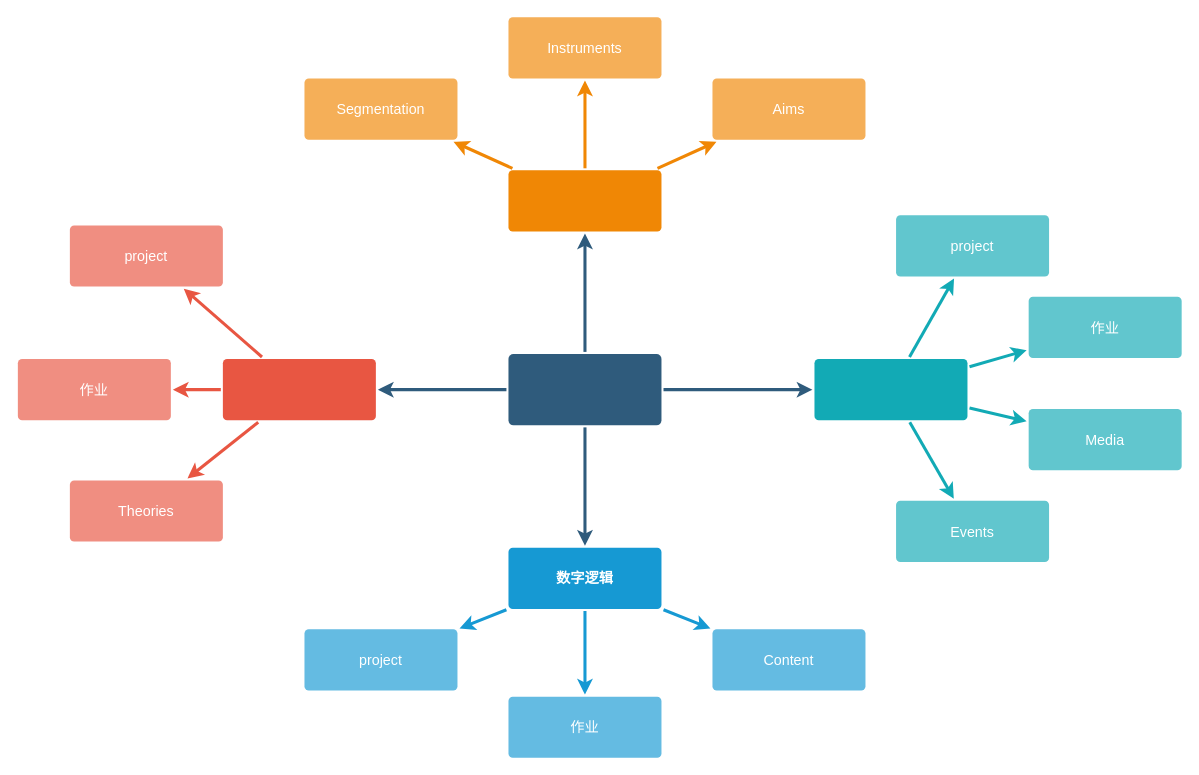
This 1199x775 diagram has some shape labels left out. The box of each missing label's shape, as (x1, y1, x2, y2) in pixels:
当前工作: (508, 353, 661, 425)
数据库: (222, 359, 375, 420)
离散数学: (814, 359, 967, 420)
英语六级: (508, 170, 661, 231)
